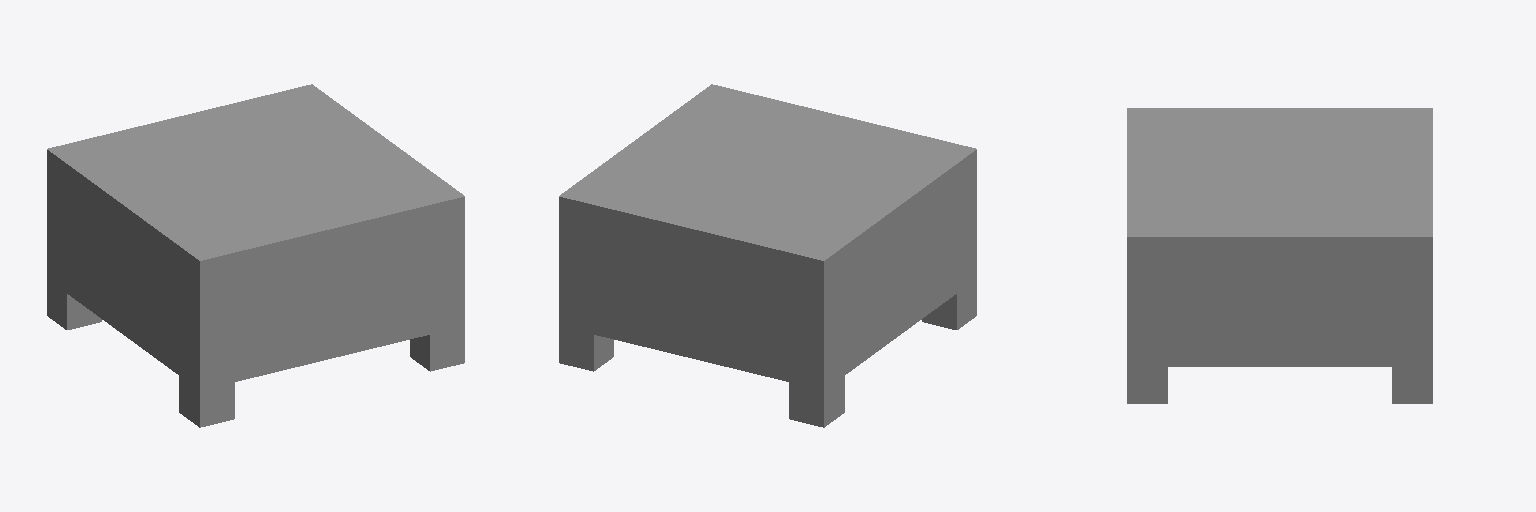
Rendered from table_basic.obj.
The picture shows the model from 3 angles: view 1: azimuth 30°, elevation 25°; view 2: azimuth 150°, elevation 25°; view 3: azimuth 270°, elevation 25°; orthographic projection.
Parts seen in each view (by area): view 1: BasicTable.002; view 2: BasicTable.002; view 3: BasicTable.002.
Boxes of the visible parts, x1,y1,x2,y2 form: BasicTable.002: [47, 84, 464, 427]; BasicTable.002: [559, 84, 976, 427]; BasicTable.002: [1127, 108, 1432, 403].
Bounding box in the file's own units: 0.9375 × 0.5625 × 0.9375.